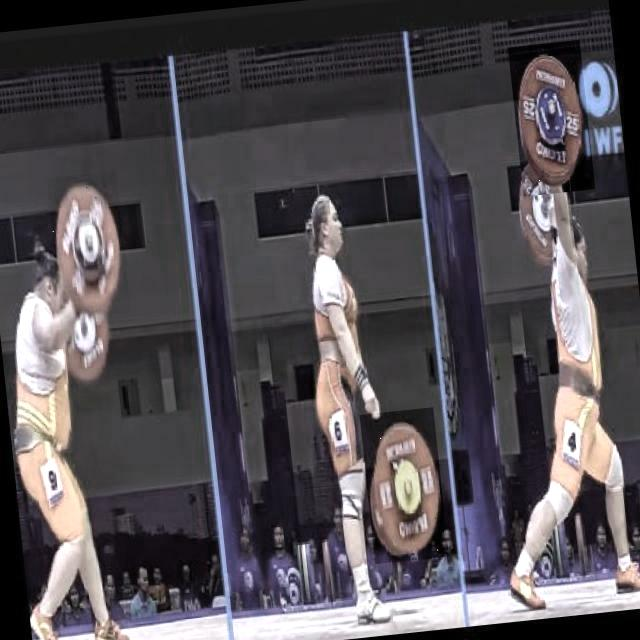barbell: (360, 407, 449, 565), (509, 40, 597, 197), (48, 172, 131, 320)
